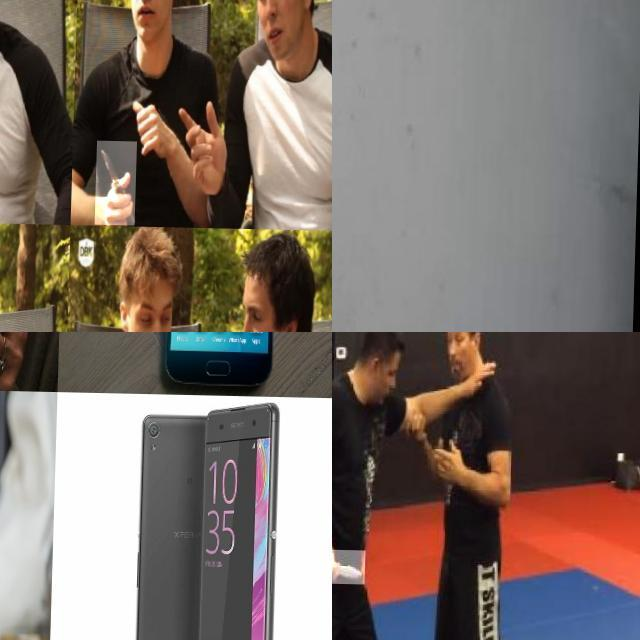-: (332, 0, 394, 332), (96, 139, 138, 224), (0, 98, 19, 205), (332, 547, 368, 583)
